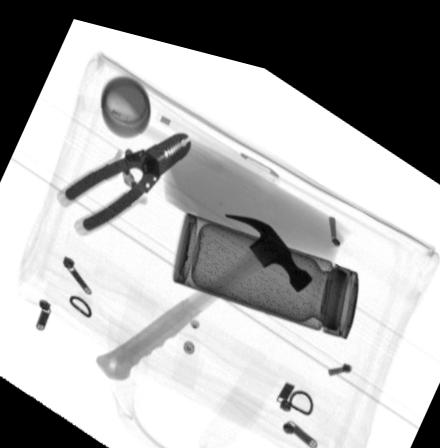Hammer: (94, 203, 313, 374)
Pliers: (53, 123, 191, 233)
